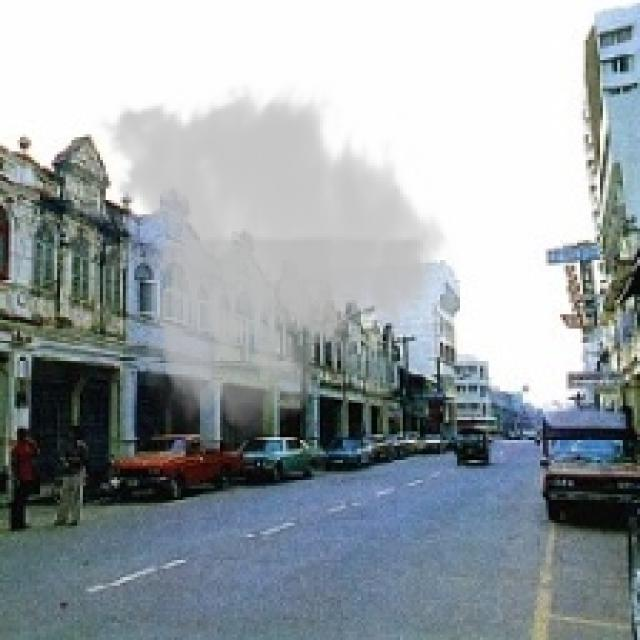smoke: (92, 80, 457, 443)
